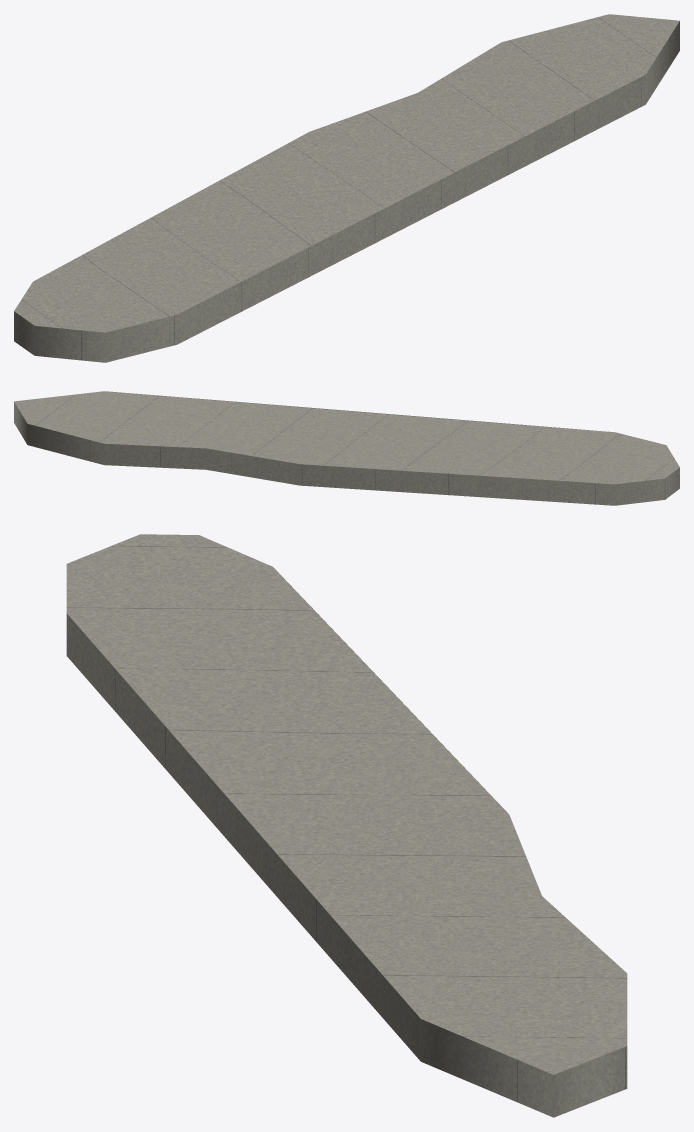
The model's file is curb_10.glb.
3 renders of one model, top to bottom at view 1: azimuth 30°, elevation 25°; view 2: azimuth 150°, elevation 25°; view 3: azimuth 270°, elevation 25°, orthographic. The views are drawn at different scales.
Visible parts, largest first — view 1: curb_10.surface, curb_10.sides; view 2: curb_10.surface, curb_10.sides; view 3: curb_10.surface, curb_10.sides.
Part boxes in pixels (bbox=[...]): curb_10.surface: bbox=[14, 14, 679, 332]; curb_10.sides: bbox=[14, 21, 679, 362]; curb_10.surface: bbox=[14, 391, 679, 484]; curb_10.sides: bbox=[14, 393, 679, 505]; curb_10.surface: bbox=[66, 534, 627, 1074]; curb_10.sides: bbox=[66, 586, 627, 1117].
Size of the model in its own units: 4.4 by 0.1966 by 1.9.
Materials: 1 (1 with a texture image).
